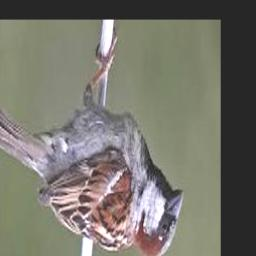Sparrow: (0, 32, 183, 256)
